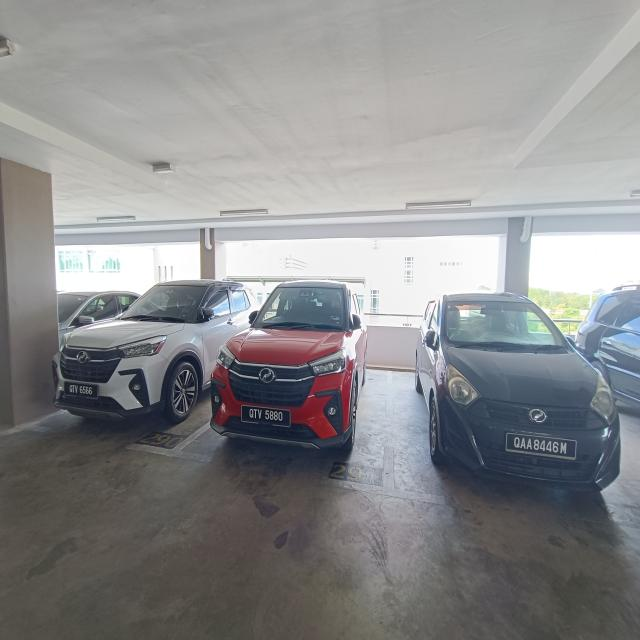PeroduaAtiva: (223, 281, 354, 454), (60, 263, 192, 431)
